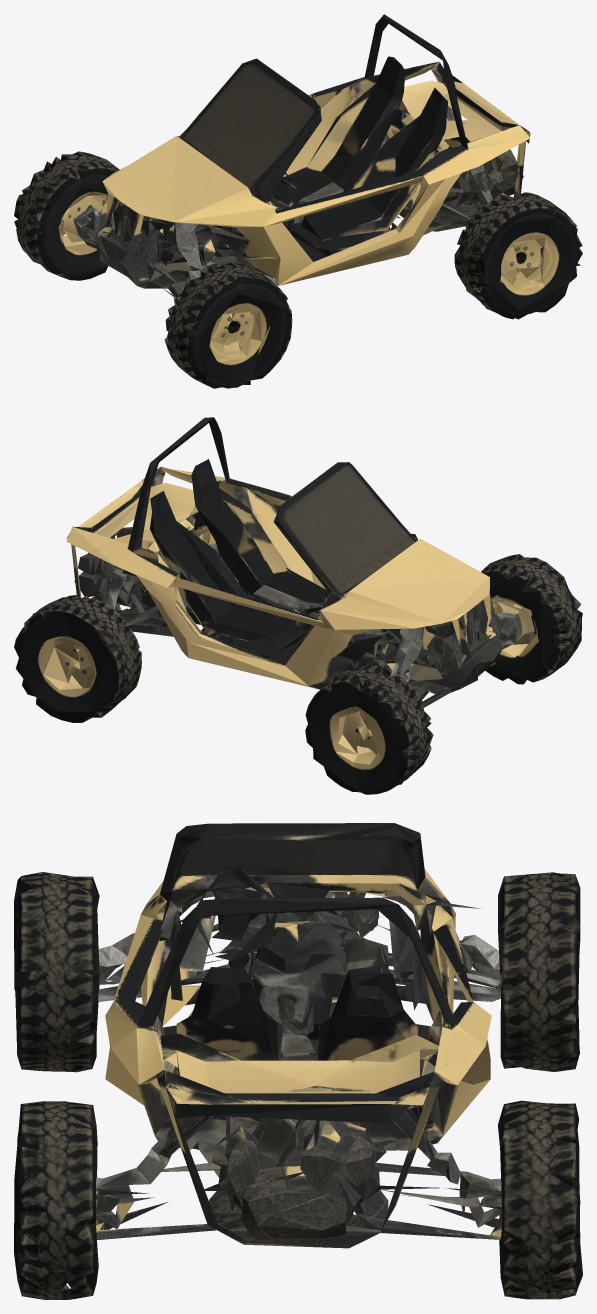
File: car_hull.glb
The picture shows the model from 3 angles, top to bottom: view 1: azimuth 30°, elevation 25°; view 2: azimuth 150°, elevation 25°; view 3: azimuth 270°, elevation 25°; orthographic projection. The views are drawn at different scales.
Bounding box in the file's own units: 1.9 × 1.01 × 1.41.
1 material, 1 textured.
